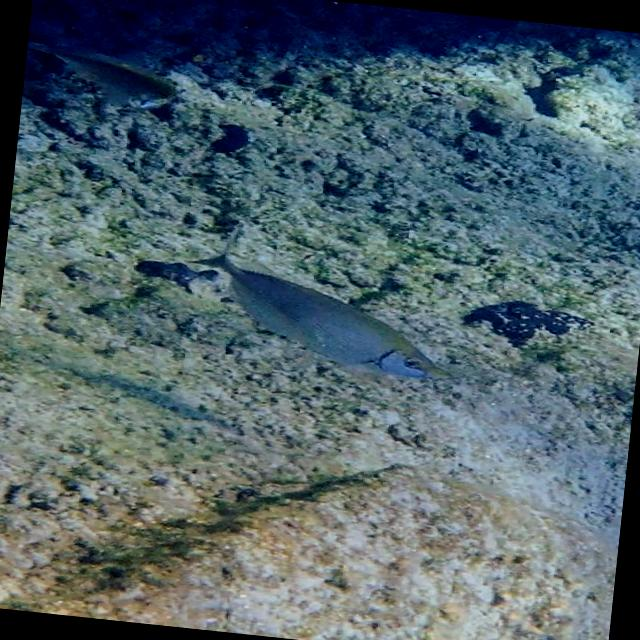Sokar Baligi: (147, 214, 497, 402)
